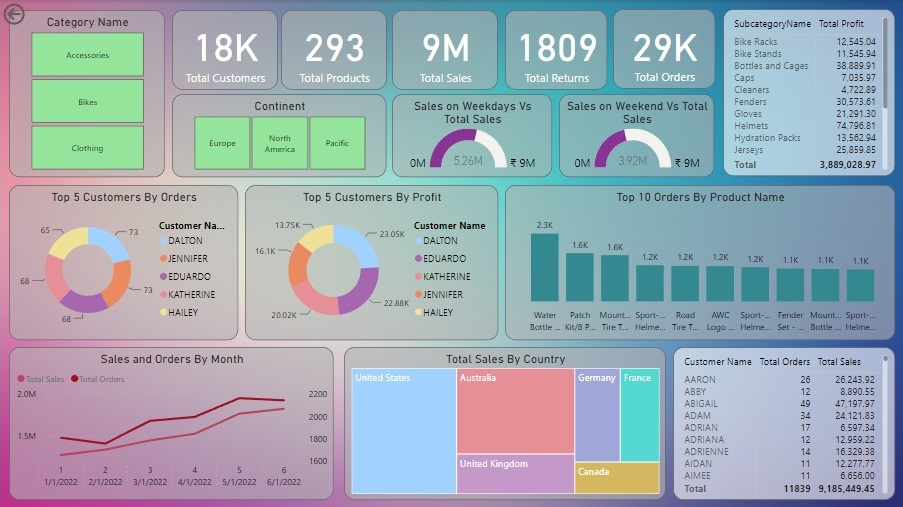

This screenshot's page, from the dashboard's own definition file:
{"tool":"powerbi","page":{"name":"Blue Print","canvas":[1280,720],"ordinal":1},"visuals":[{"type":"card","title":"Total Products","fields":{"Values":["Product Lookup.ProductKey"]},"box":[398.3,14.2,150.2,113.4],"z":0},{"type":"card","fields":{"Values":["Customer Lookup.CustomerKey"]},"box":[243.8,14.2,150.2,113.4],"z":1000},{"type":"card","fields":{"Values":["Sales Data 2022.TotalSales 2"]},"box":[555.6,14.2,150.2,113.4],"z":2000},{"type":"card","fields":{"Values":["Measure (3).Total Returns"]},"box":[715.7,14.2,145,113.4],"z":3000},{"type":"card","fields":{"Values":["Sales Data 2022.OrderNumber"]},"box":[868.5,13.4,145,113],"z":4000},{"type":"columnChart","title":"Top 10 Orders By Product Name","fields":{"Category":["Product Lookup.ProductName"],"Y":["Sales Data 2022.Total Orders"]},"box":[715.7,262.2,552.8,219.7],"z":5000},{"type":"lineChart","title":"Sales and Orders By  Month","fields":{"Y":["Sales Data 2022.TotalSales 2"],"Category":["Calendar Lookup.Start of Month","Calendar Lookup.Month"],"Y2":["Sales Data 2022.Total Orders"]},"box":[13.4,492.2,460.3,216.7],"z":6000},{"type":"pivotTable","fields":{"Rows":["Customer Lookup.FirstName"],"Values":["Sales Data 2022.Total Orders","Sales Data 2022.TotalSales 2"]},"box":[953.9,491.8,314.6,216.9],"z":7000},{"type":"donutChart","title":"Top 5 Customers By Orders","fields":{"Category":["Customer Lookup.FirstName"],"Y":["Sales Data 2022.Total Orders"]},"box":[12.8,262.2,324.6,219.7],"z":8000},{"type":"donutChart","title":"Top 5 Customers By Profit","fields":{"Category":["Customer Lookup.FirstName"],"Y":["Sales Data 2022.Total Profit"]},"box":[347.2,262.2,358.6,219.7],"z":9000},{"type":"treemap","title":"Total Sales By Country","fields":{"Group":["Territory Lookup.Country"],"Values":["Sales Data 2022.TotalSales 2"]},"box":[487.6,491.8,456.4,216.9],"z":10000},{"type":"slicer","title":"Category Name","fields":{"Values":["Product Categories Lookup.CategoryName"]},"box":[12.8,14.2,221.1,236.7],"z":11000},{"type":"gauge","title":"Sales on Weekdays Vs Total Sales","fields":{"Y":["Measure (3).Weekday sales"],"MaxValue":["Sales Data 2022.Total Sales"]},"box":[556,132.7,227,117.6],"z":12000},{"type":"gauge","title":"Sales on Weekend Vs Total Sales","fields":{"MaxValue":["Sales Data 2022.Total Sales"],"Y":["Measure (3).Weekend sales"]},"box":[792.9,132.7,220.1,117.6],"z":13000},{"type":"pivotTable","fields":{"Rows":["Product Subcategories Lookup.SubcategoryName"],"Values":["Sales Data 2022.Total Profit"]},"box":[1024.7,13.4,243.6,236.9],"z":14000},{"type":"actionButton","box":[0,0,100,40],"z":15000},{"type":"slicer","title":"Continent","fields":{"Values":["Territory Lookup.Continent"]},"box":[243.6,132.7,304,117.6],"z":16000}]}

Visuals, with their boxes in screenshot pixels (x1, y1, x2, y2), scaled from the page's 1280x720 canvas onto the 903x507 screenshot:
"Total Products" card: BBox(281, 10, 387, 90)
card - Customer Lookup.CustomerKey: BBox(172, 10, 278, 90)
card - Sales Data 2022.TotalSales 2: BBox(392, 10, 498, 90)
card - Measure (3).Total Returns: BBox(505, 10, 607, 90)
card - Sales Data 2022.OrderNumber: BBox(613, 9, 715, 89)
"Top 10 Orders By Product Name" columnChart: BBox(505, 185, 895, 339)
"Sales and Orders By  Month" lineChart: BBox(9, 347, 334, 499)
pivotTable - Customer Lookup.FirstName x Sales Data 2022.Total Orders: BBox(673, 346, 895, 499)
"Top 5 Customers By Orders" donutChart: BBox(9, 185, 238, 339)
"Top 5 Customers By Profit" donutChart: BBox(245, 185, 498, 339)
"Total Sales By Country" treemap: BBox(344, 346, 666, 499)
"Category Name" slicer: BBox(9, 10, 165, 177)
"Sales on Weekdays Vs Total Sales" gauge: BBox(392, 93, 552, 176)
"Sales on Weekend Vs Total Sales" gauge: BBox(559, 93, 715, 176)
pivotTable - Product Subcategories Lookup.SubcategoryName x Sales Data 2022.Total Profit: BBox(723, 9, 895, 176)
actionButton: BBox(0, 0, 71, 28)
"Continent" slicer: BBox(172, 93, 386, 176)
